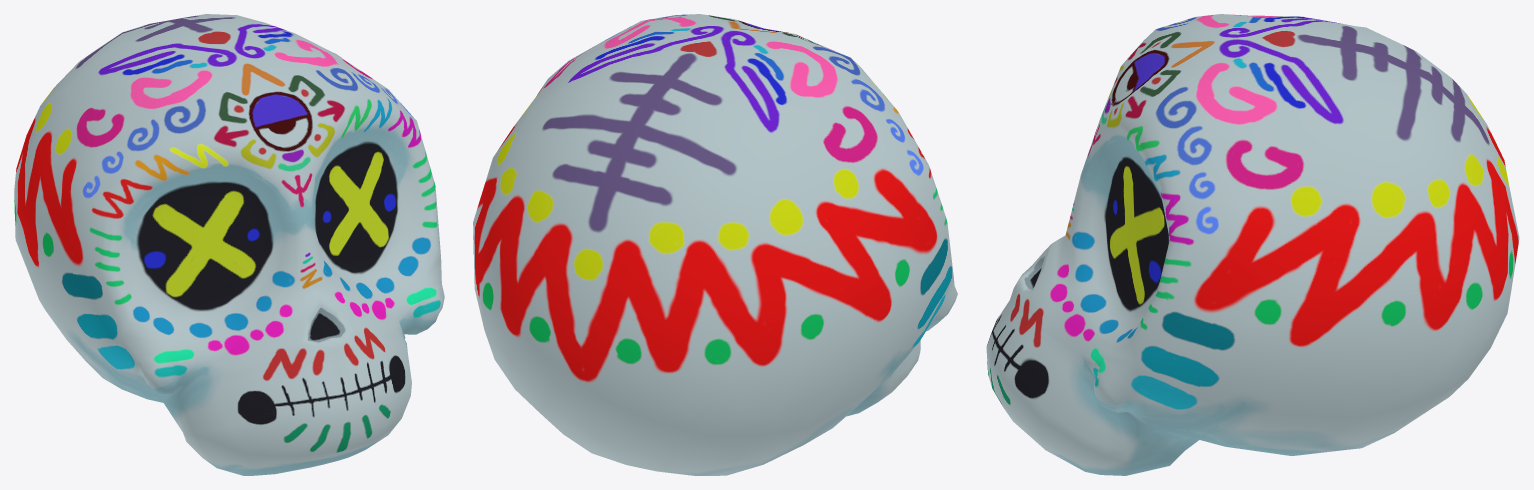
Rendered from skull.glb.
3 renders of one model, left to right at view 1: azimuth 30°, elevation 25°; view 2: azimuth 150°, elevation 25°; view 3: azimuth 270°, elevation 25°, orthographic. The views are drawn at different scales.
Parts seen in each view (by area): view 1: Skull_2; view 2: Skull_2; view 3: Skull_2.
Part boxes in pixels (left/top/right/bottom): Skull_2: left=14, top=14, right=444, bottom=475; Skull_2: left=473, top=14, right=957, bottom=475; Skull_2: left=986, top=14, right=1519, bottom=475.
Size of the model in its own units: 1.91 by 1.94 by 2.25.
Materials: 1 (1 with a texture image).
